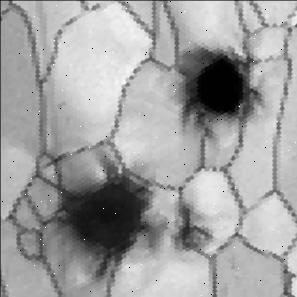good_void: (56, 145, 165, 281), (175, 44, 258, 143), (169, 203, 213, 260), (54, 99, 67, 111)
